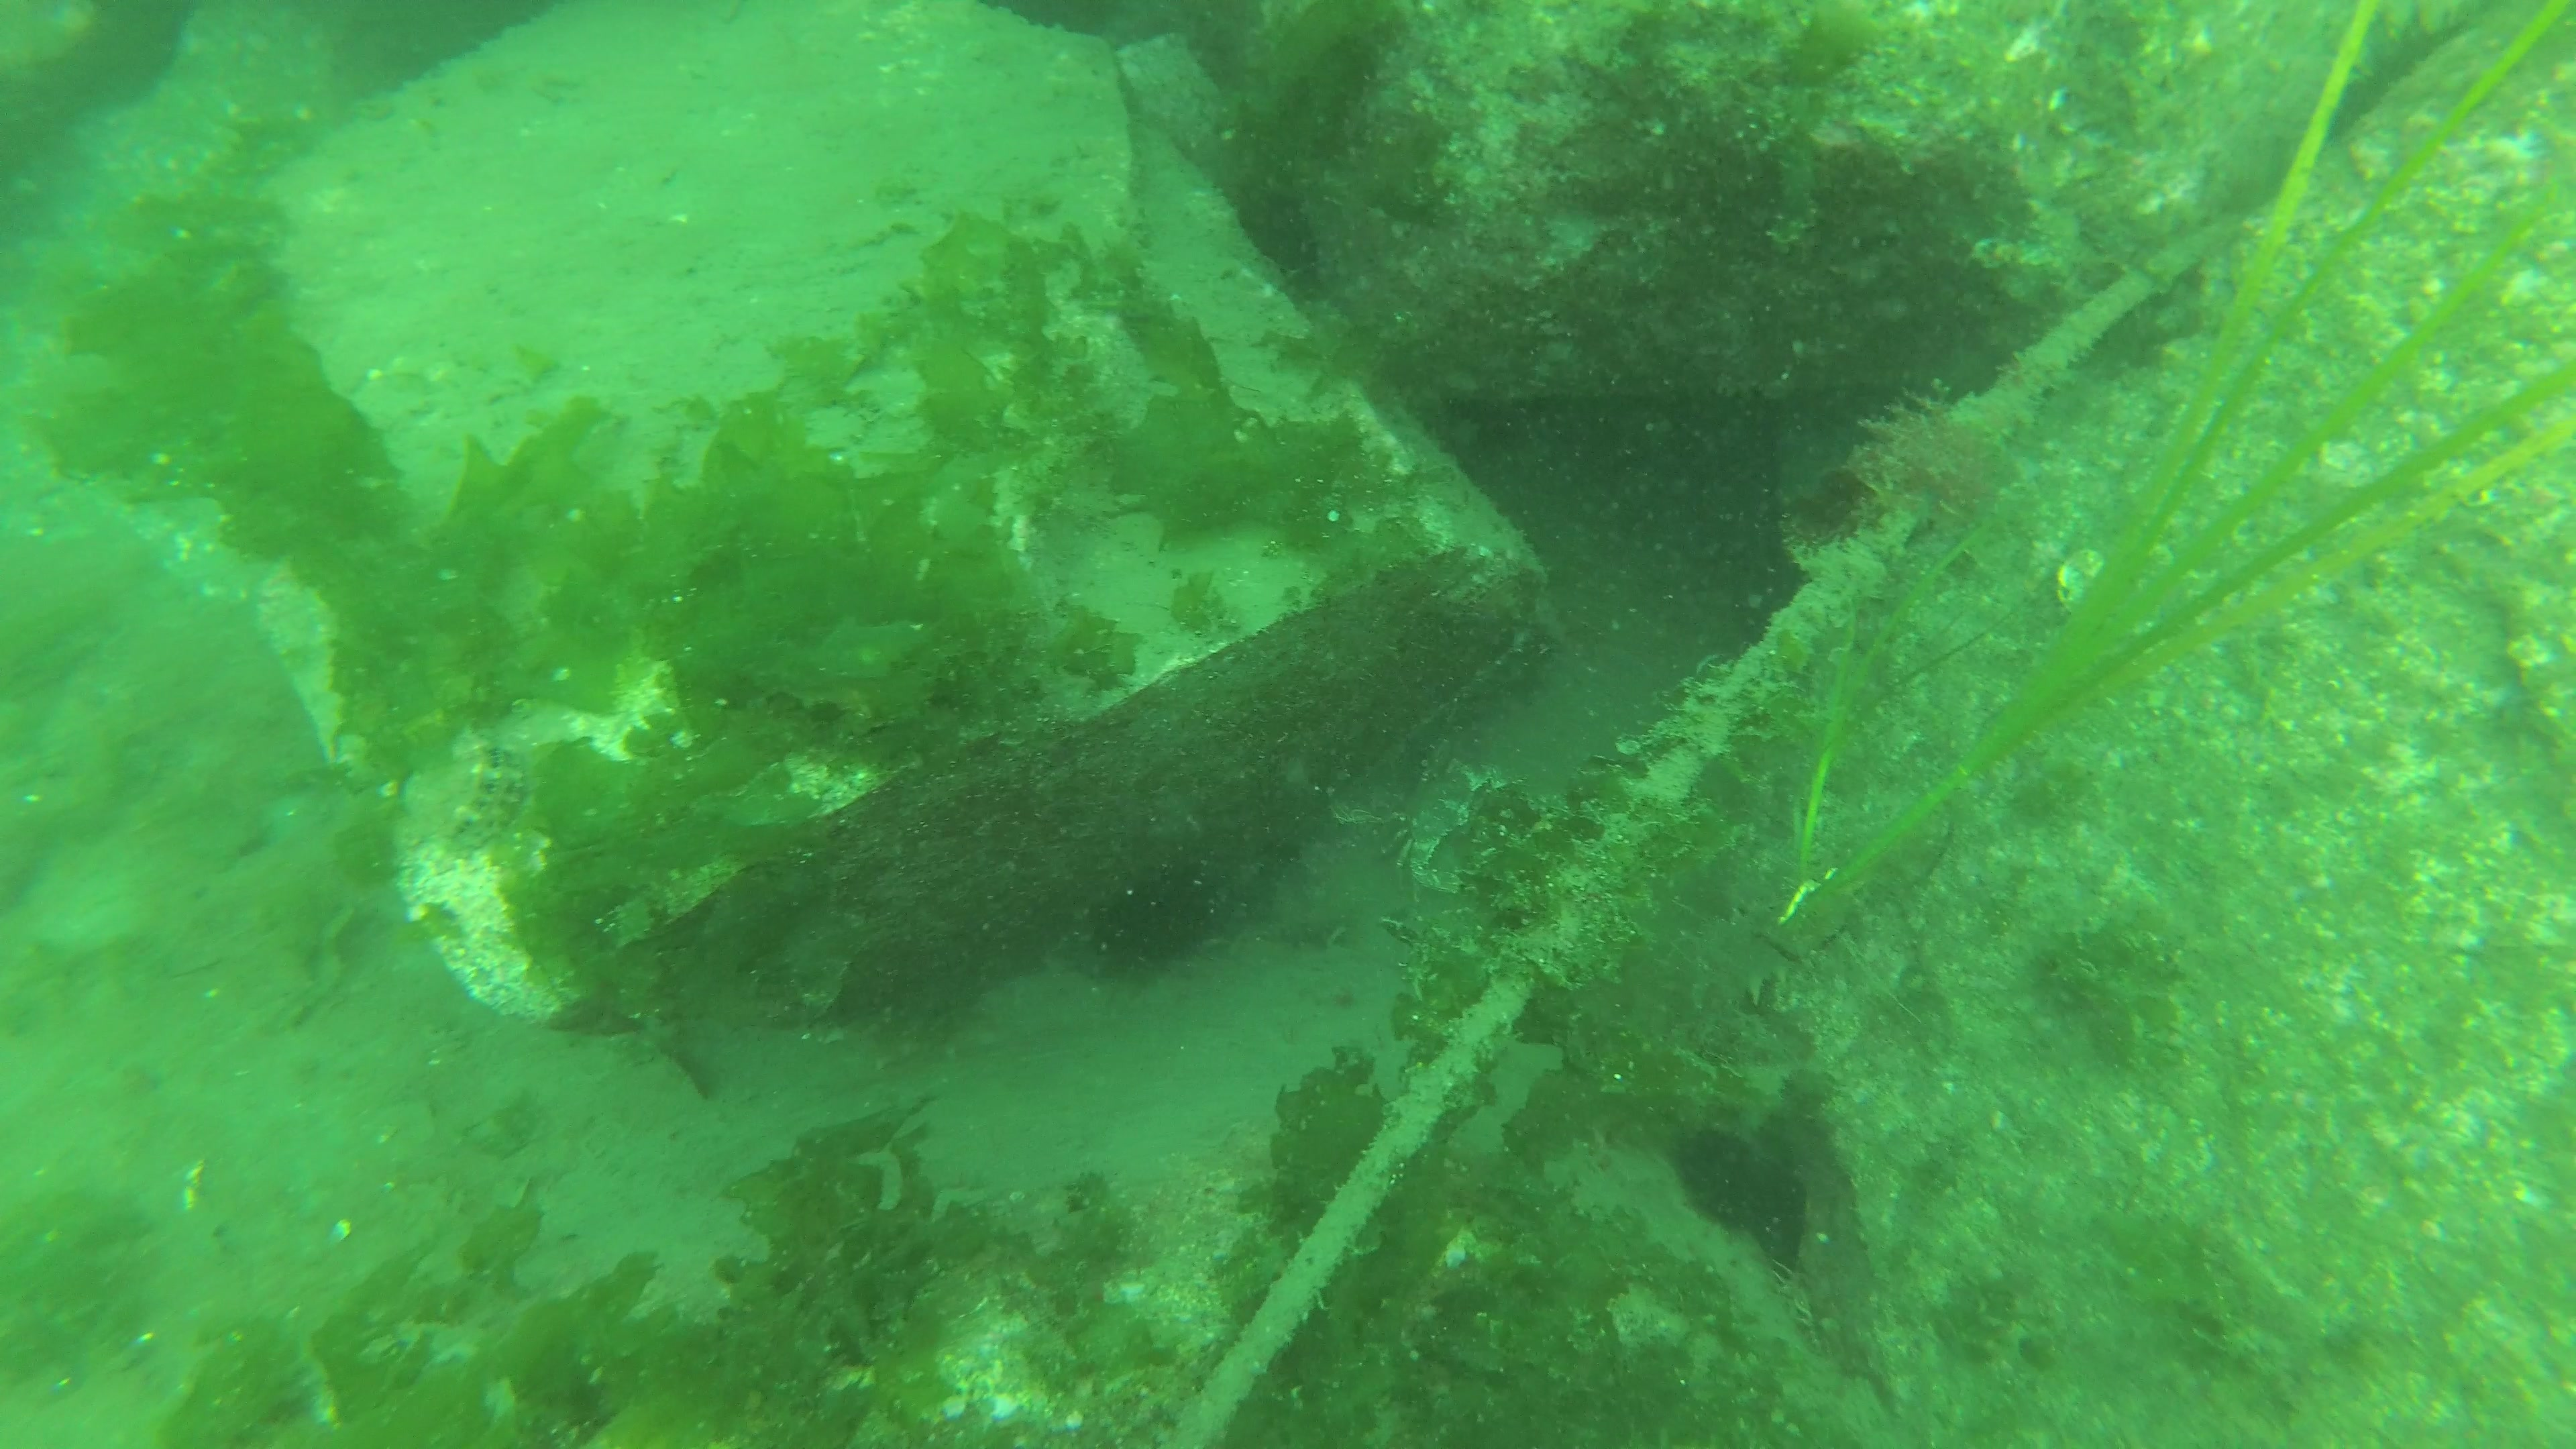echinus: (1102, 883, 1228, 971), (1675, 1127, 1775, 1233), (1757, 1180, 1808, 1270)
